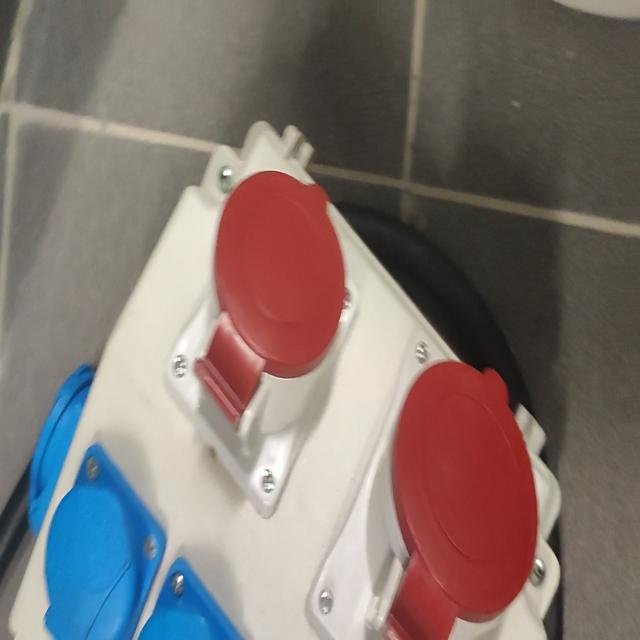400v socket: (308, 332, 538, 640), (166, 172, 359, 521)
house plug covered: (44, 437, 167, 637)
